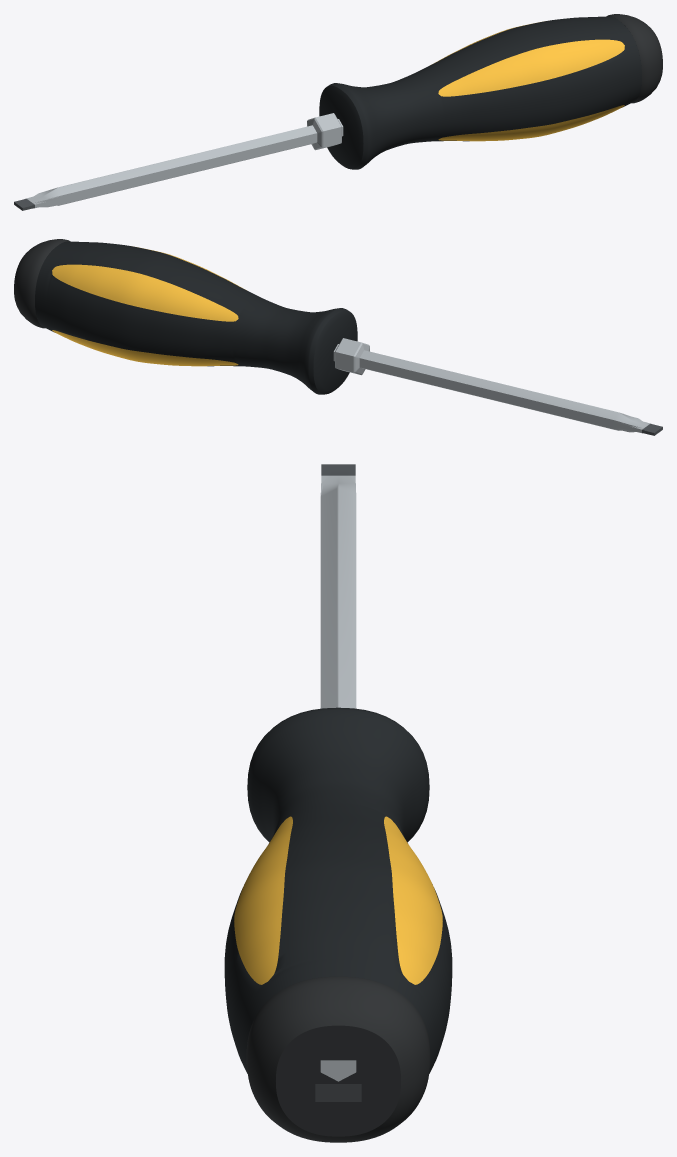
3 renders of one model, top to bottom at view 1: azimuth 30°, elevation 25°; view 2: azimuth 150°, elevation 25°; view 3: azimuth 270°, elevation 25°, orthographic. The views are drawn at different scales.
Parts seen in each view (by area): view 1: Rigid handle core, Continuous blade and bolster, Grip inlay 2, Socket impact cap, Grip inlay 3; view 2: Rigid handle core, Continuous blade and bolster, Grip inlay 1, Socket impact cap, Grip inlay 4; view 3: Rigid handle core, Socket impact cap, Continuous blade and bolster, Grip inlay 1, Grip inlay 2.
Part boxes in pixels (x1,y1,x2,y2): Rigid handle core: (319, 16, 641, 169); Continuous blade and bolster: (14, 113, 343, 210); Grip inlay 2: (438, 39, 624, 96); Socket impact cap: (606, 14, 662, 103); Grip inlay 3: (438, 105, 624, 141); Rigid handle core: (35, 241, 357, 394); Continuous blade and bolster: (333, 338, 662, 435); Grip inlay 1: (52, 264, 238, 321); Socket impact cap: (14, 239, 70, 328); Grip inlay 4: (52, 330, 238, 366); Rigid handle core: (224, 707, 452, 1073); Socket impact cap: (246, 976, 430, 1142); Continuous blade and bolster: (320, 464, 356, 1081); Grip inlay 1: (384, 816, 442, 984); Grip inlay 2: (234, 816, 292, 984).
Bounding box in the file's own units: 0.204 × 0.03 × 0.032.
